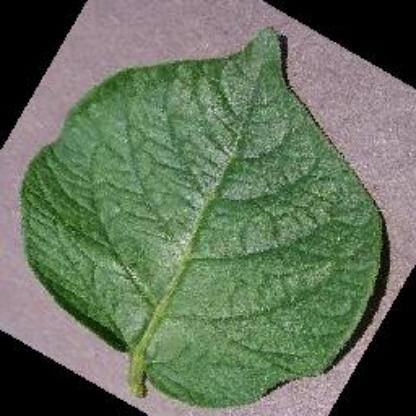Healthy-plant: (17, 27, 385, 408)
